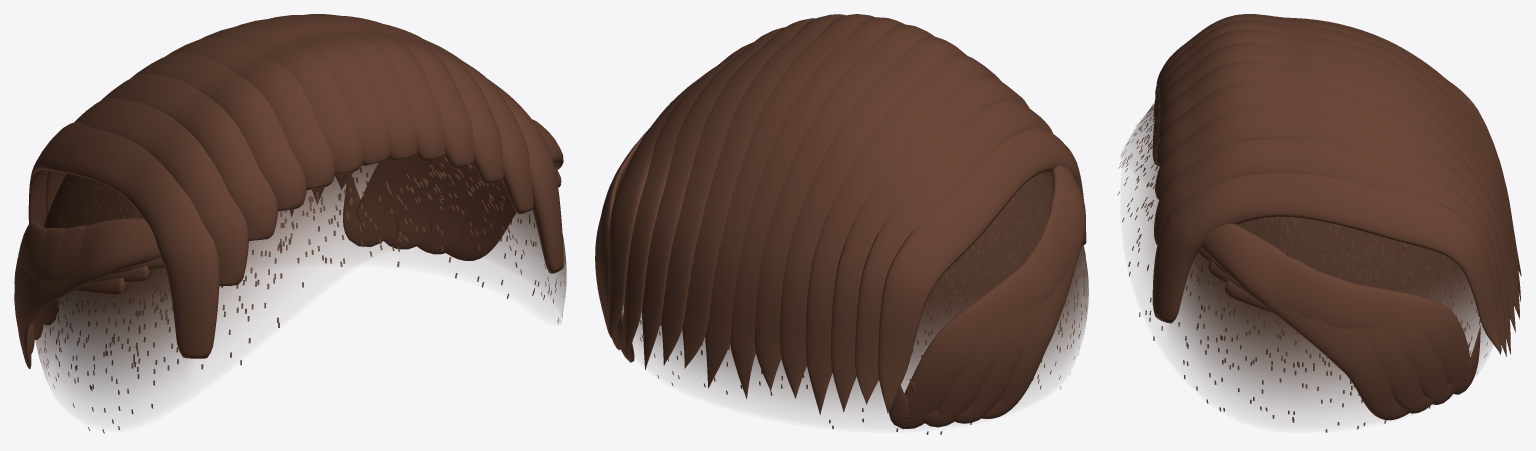
The model's file is Masculine-flow-tank-pashmina250-hair.glb.
The picture shows the model from 3 angles, left to right: view 1: azimuth 30°, elevation 25°; view 2: azimuth 150°, elevation 25°; view 3: azimuth 270°, elevation 25°; orthographic projection. The views are drawn at different scales.
Parts seen in each view (by area): view 1: 226 hair / Hair / chestnut226.001, 226 hair / Hair / neutral coverage235.002, 226 hair / Hair / cut grain235.002; view 2: 226 hair / Hair / chestnut226.001, 226 hair / Hair / neutral coverage235.002, 226 hair / Hair / cut grain235.002; view 3: 226 hair / Hair / chestnut226.001, 226 hair / Hair / neutral coverage235.002, 226 hair / Hair / cut grain235.002.
Part boxes in pixels (bbox=[...]): 226 hair / Hair / chestnut226.001: bbox=[14, 14, 563, 368]; 226 hair / Hair / neutral coverage235.002: bbox=[32, 155, 566, 412]; 226 hair / Hair / cut grain235.002: bbox=[32, 157, 566, 433]; 226 hair / Hair / chestnut226.001: bbox=[595, 14, 1086, 429]; 226 hair / Hair / neutral coverage235.002: bbox=[622, 172, 1088, 416]; 226 hair / Hair / cut grain235.002: bbox=[623, 172, 1088, 434]; 226 hair / Hair / chestnut226.001: bbox=[1152, 14, 1521, 420]; 226 hair / Hair / neutral coverage235.002: bbox=[1122, 98, 1492, 416]; 226 hair / Hair / cut grain235.002: bbox=[1117, 98, 1487, 432].
Size of the model in its own units: 1.02 by 0.6752 by 0.8042.
